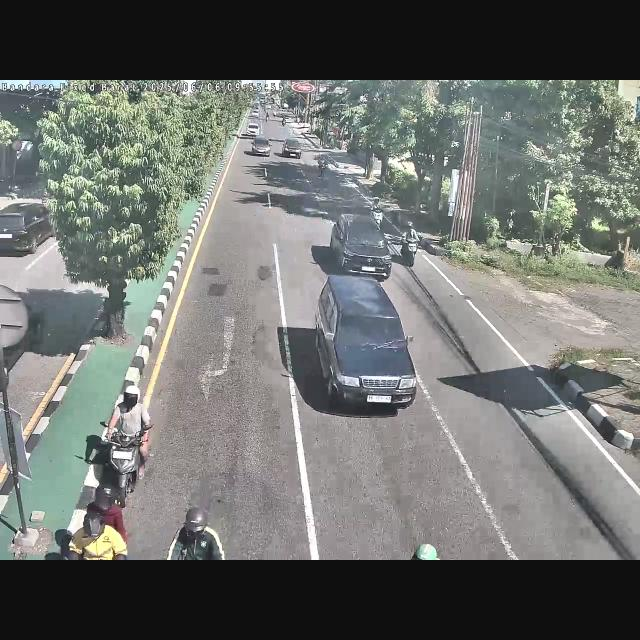Mobil: (314, 276, 418, 414), (332, 210, 390, 280)
Motor: (66, 482, 136, 560), (104, 382, 150, 500), (166, 502, 228, 560), (399, 216, 418, 272), (368, 193, 384, 234)
